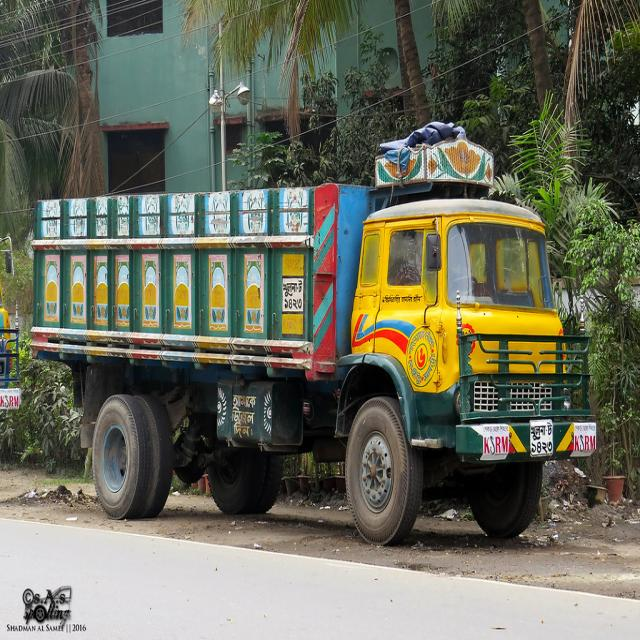truck: (28, 118, 613, 556)
